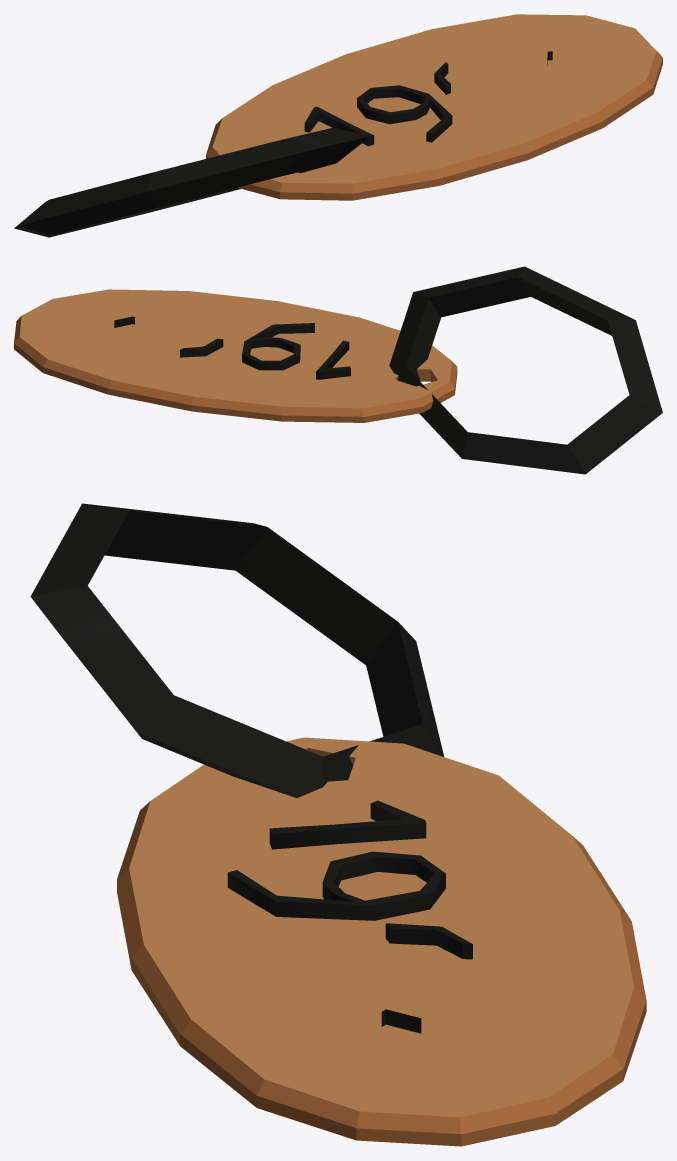
The model's file is clauer_Pista.fbx.
3 renders of one model, top to bottom at view 1: azimuth 30°, elevation 25°; view 2: azimuth 150°, elevation 25°; view 3: azimuth 270°, elevation 25°, orthographic. The views are drawn at different scales.
Parts seen in each view (by area): view 1: Plane, Torus, Text.002; view 2: Plane, Torus, Text.002; view 3: Plane, Torus, Text.002.
Part boxes in pixels (x1,y1,x2,y2): Plane: (206,14,662,200); Torus: (14,128,370,237); Text.002: (304,51,552,146); Plane: (14,289,457,422); Torus: (389,266,662,474); Text.002: (114,316,350,379); Plane: (117,737,646,1146); Torus: (30,503,444,797); Text.002: (227,800,472,1033).
Size of the model in its own units: 37.63 by 6.62 by 16.88.
